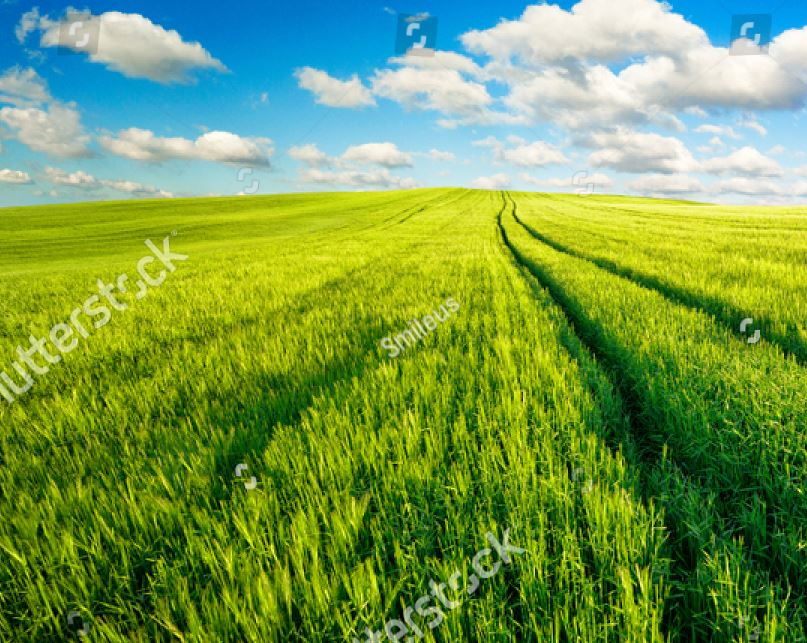Wheat: (242, 435, 396, 613)
